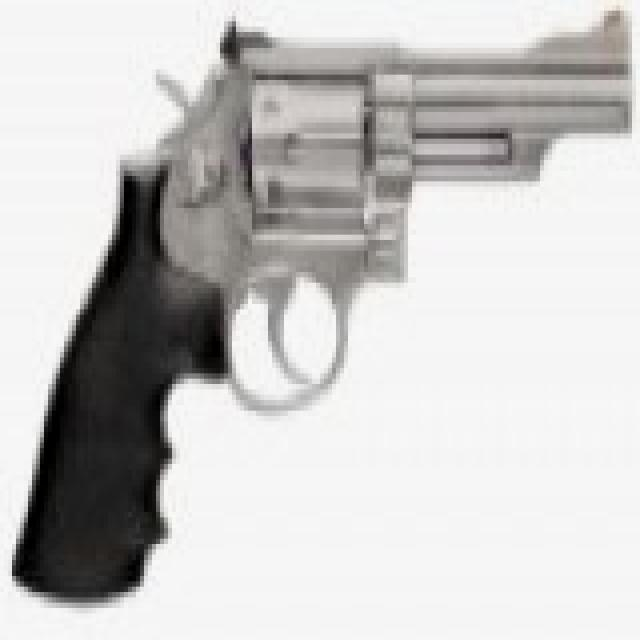pistol: (28, 5, 640, 592)
